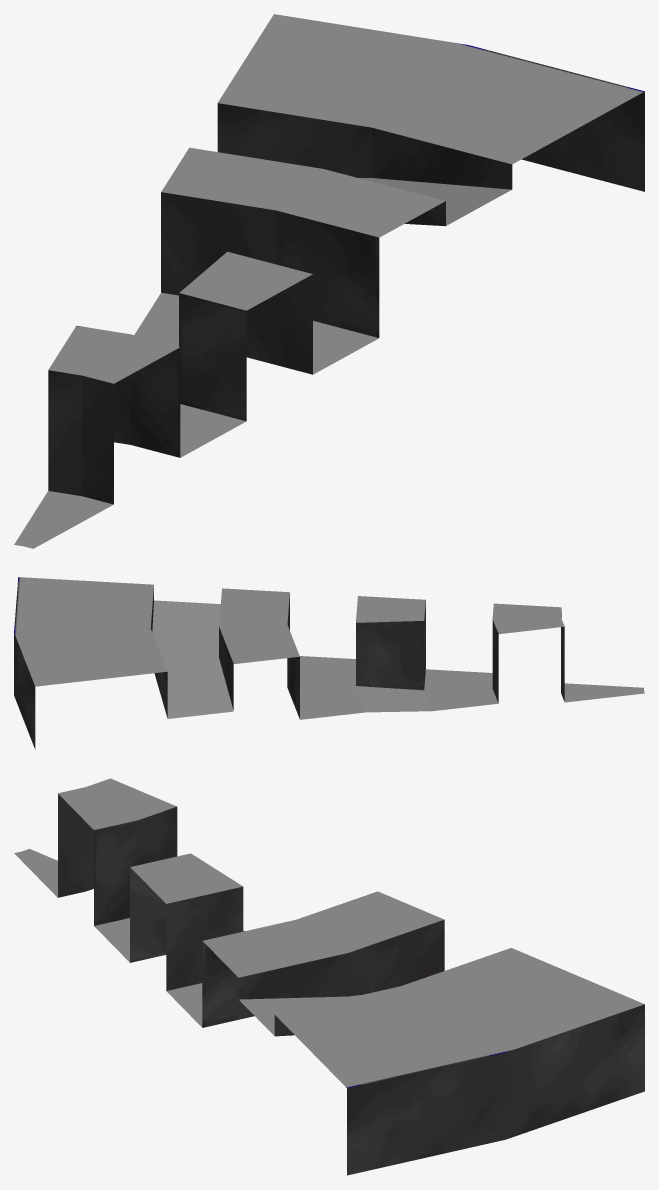
The model's file is bottom_03.obj.
3 renders of one model, top to bottom at view 1: azimuth 30°, elevation 25°; view 2: azimuth 150°, elevation 25°; view 3: azimuth 270°, elevation 25°, orthographic. The views are drawn at different scales.
Parts seen in each view (by area): view 1: Cylinder.008; view 2: Cylinder.008; view 3: Cylinder.008.
Part boxes in pixels (x1,y1,x2,y2): Cylinder.008: [14, 14, 644, 548]; Cylinder.008: [14, 577, 644, 749]; Cylinder.008: [14, 778, 644, 1175].
Bounding box in the file's own units: 33.89 × 4.8 × 26.25.
